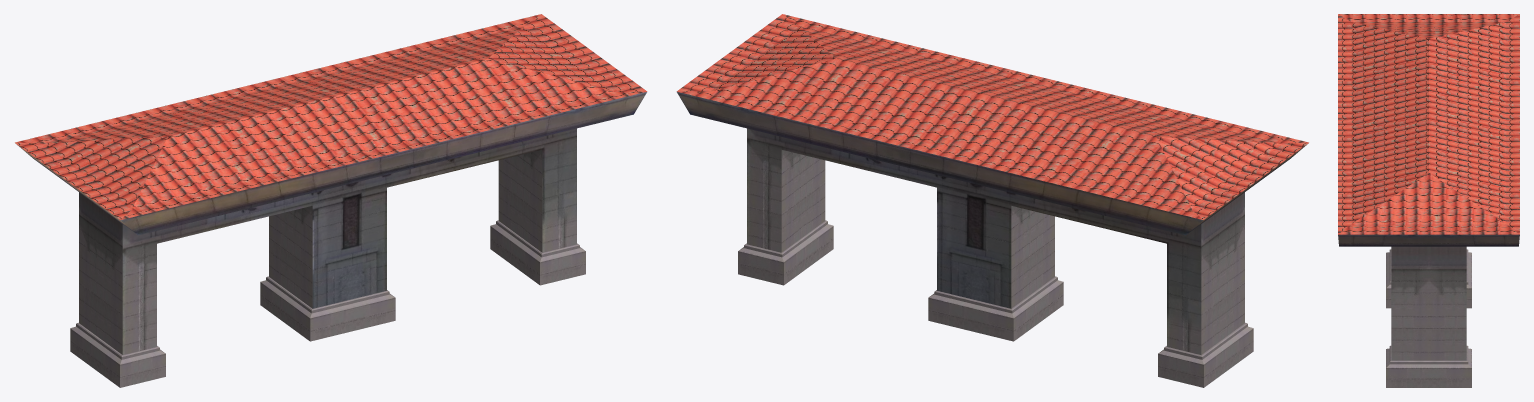
Rendered from builder_25.FBX.
3 renders of one model, left to right at view 1: azimuth 30°, elevation 25°; view 2: azimuth 150°, elevation 25°; view 3: azimuth 270°, elevation 25°, orthographic. The views are drawn at different scales.
Parts seen in each view (by area): view 1: out_door; view 2: out_door; view 3: out_door.
Part boxes in pixels (left/top/right/bottom): out_door: left=15, top=14, right=647, bottom=387; out_door: left=676, top=14, right=1308, bottom=387; out_door: left=1338, top=14, right=1519, bottom=387.
Bounding box in the file's own units: 31194 × 12175 × 10868.
